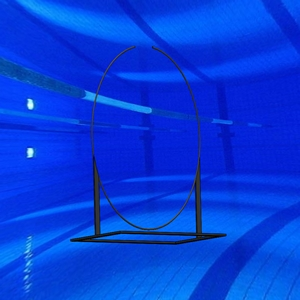circle: (69, 44, 228, 246)
